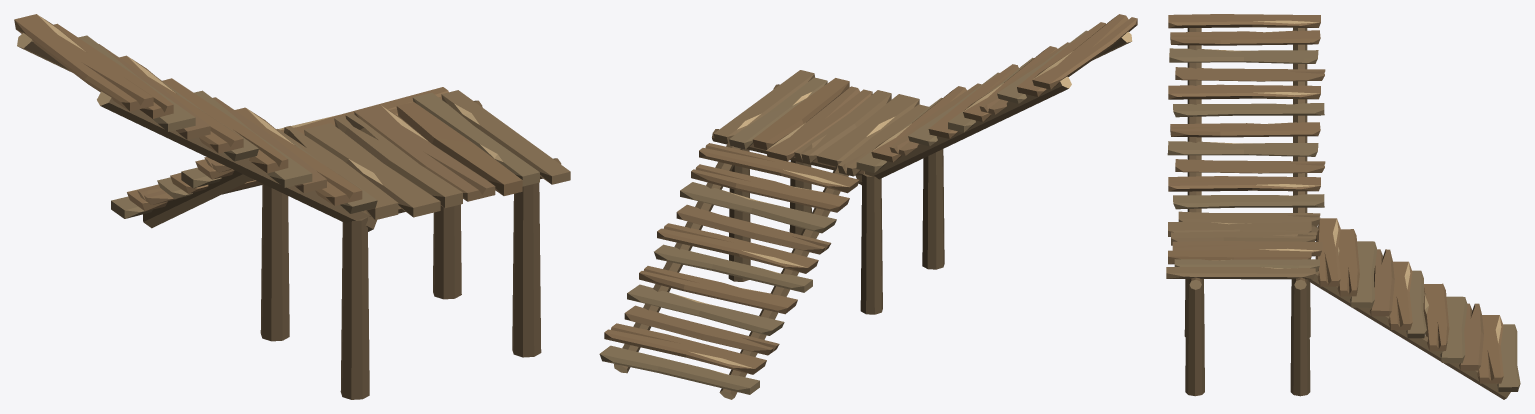
File: rpgpp_ag_wall_platform_stairs_01b_4m.fbx
3 renders of one model, left to right at view 1: azimuth 30°, elevation 25°; view 2: azimuth 150°, elevation 25°; view 3: azimuth 270°, elevation 25°, orthographic. The views are drawn at different scales.
Visible parts, largest first — view 1: rpgpp_ag_wall_platform_stairs_01b_4m; view 2: rpgpp_ag_wall_platform_stairs_01b_4m; view 3: rpgpp_ag_wall_platform_stairs_01b_4m.
Part boxes in pixels (bbox=[...]): rpgpp_ag_wall_platform_stairs_01b_4m: bbox=[14, 14, 570, 399]; rpgpp_ag_wall_platform_stairs_01b_4m: bbox=[599, 14, 1137, 399]; rpgpp_ag_wall_platform_stairs_01b_4m: bbox=[1166, 14, 1520, 399].
Size of the model in its own units: 5.08 by 3.98 by 5.1.
